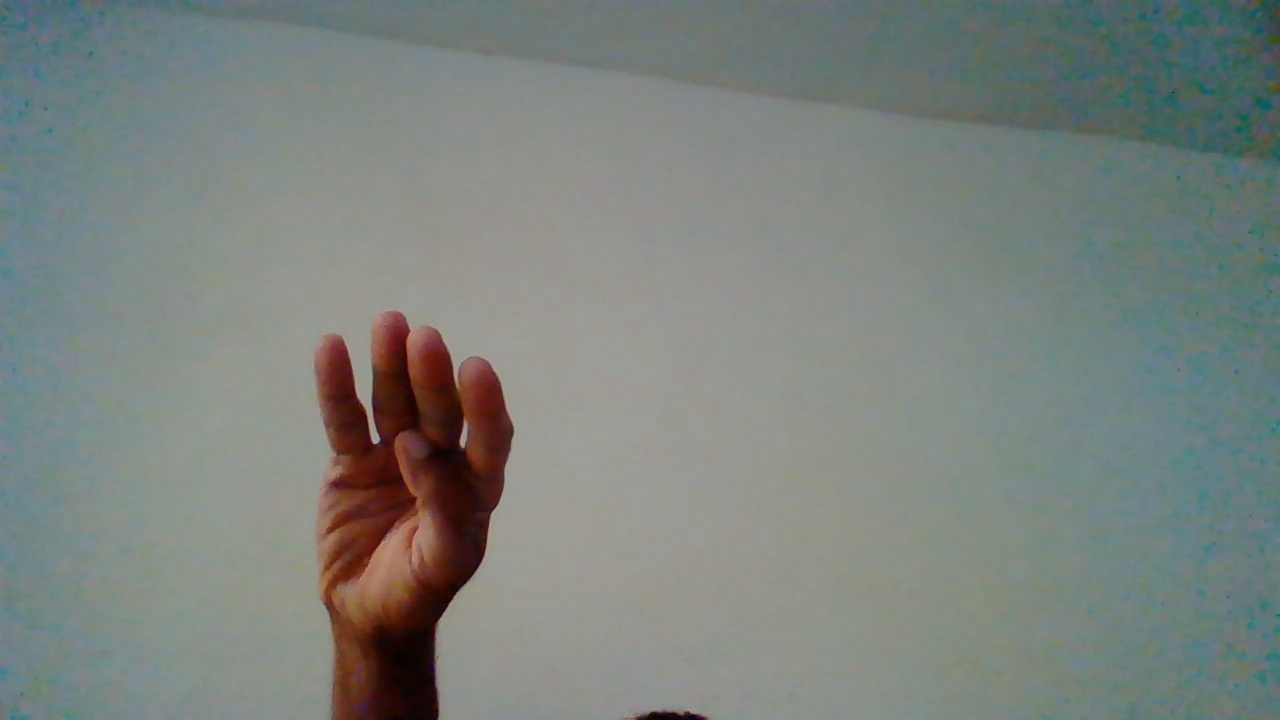me: (306, 311, 509, 691)
